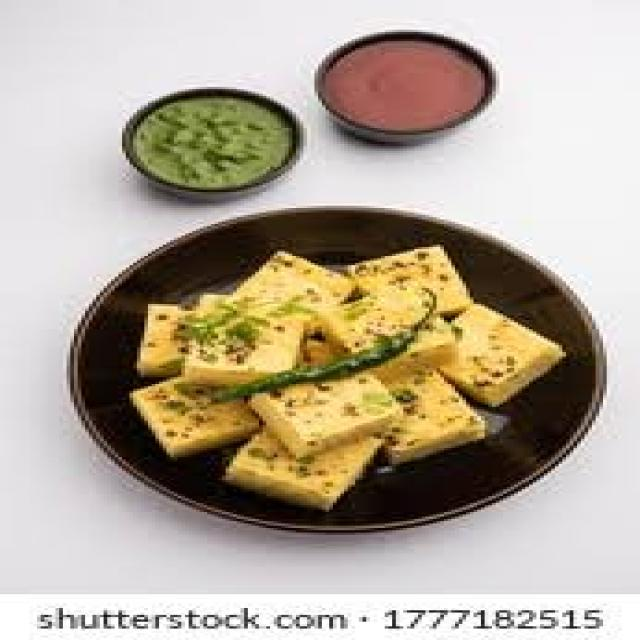DHOKLA: (129, 247, 559, 507), (252, 373, 396, 457)
